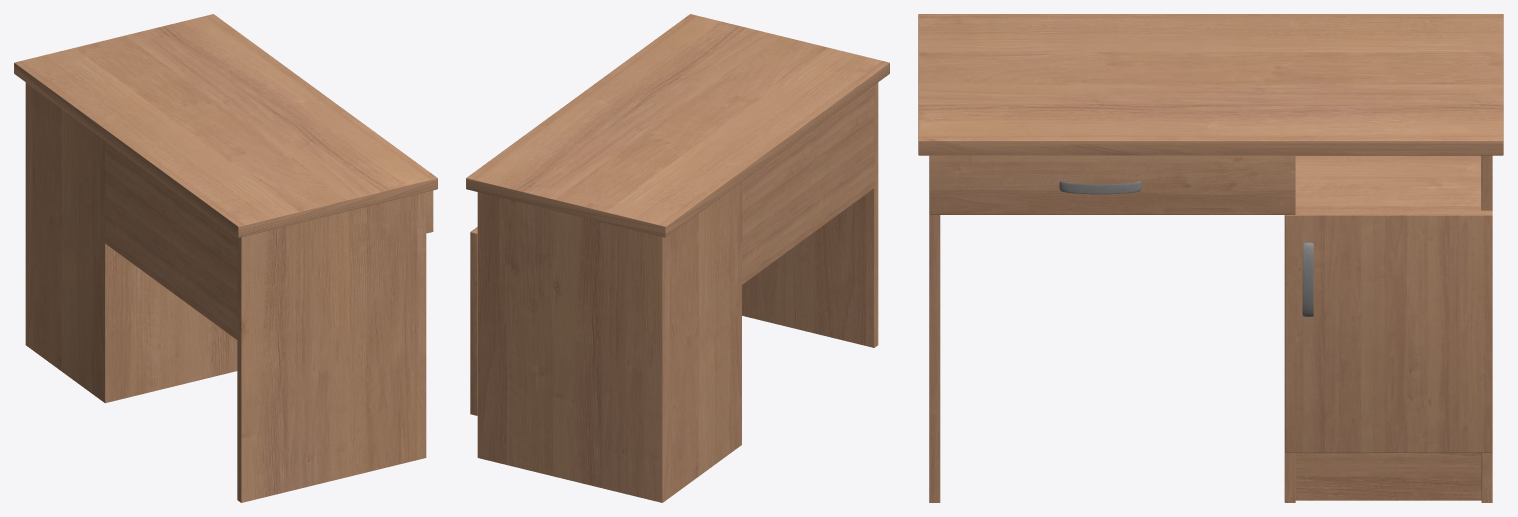
File: TableDesk-transformed.glb
3 views of the same model, side by side, from view 1: azimuth 30°, elevation 25°; view 2: azimuth 150°, elevation 25°; view 3: azimuth 270°, elevation 25° (orthographic). The views are drawn at different scales.
Visible parts, largest first — view 1: Wodden desk; view 2: Wodden desk; view 3: Wodden desk.
Boxes of the visible parts, x1=… form: Wodden desk: x1=14, y1=14, x2=437, y2=502; Wodden desk: x1=466, y1=14, x2=889, y2=502; Wodden desk: x1=918, y1=14, x2=1503, y2=502.
Size of the model in its own units: 0.7459 by 0.9697 by 1.4.
Materials: 2 (2 with a texture image).
